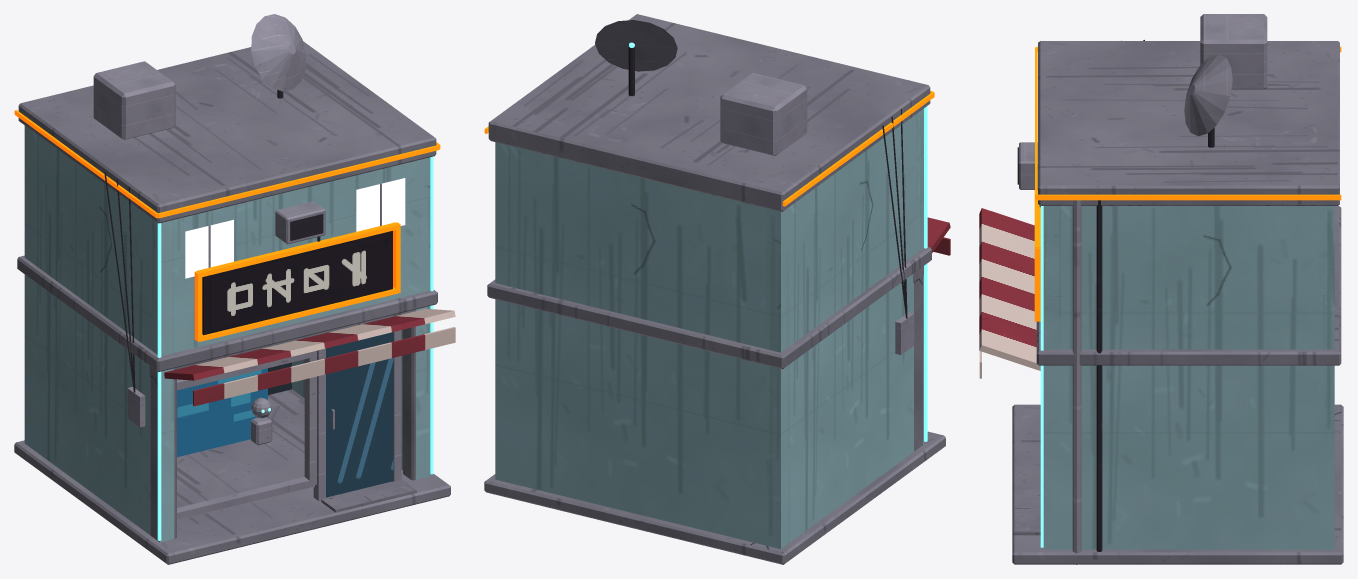
Rendered from servico_ia-assistente.glb.
The picture shows the model from 3 angles, left to right: view 1: azimuth 30°, elevation 25°; view 2: azimuth 150°, elevation 25°; view 3: azimuth 270°, elevation 25°; orthographic projection. The views are drawn at different scales.
Visible parts, largest first — view 1: servico_ia-assistente; view 2: servico_ia-assistente; view 3: servico_ia-assistente.
Part boxes in pixels (left/top/right/bottom): servico_ia-assistente: left=14, top=14, right=455, bottom=564; servico_ia-assistente: left=484, top=14, right=950, bottom=564; servico_ia-assistente: left=979, top=14, right=1343, bottom=564.
Size of the model in its own units: 3.18 by 4.55 by 3.25.
Materials: 6 (3 with a texture image).
